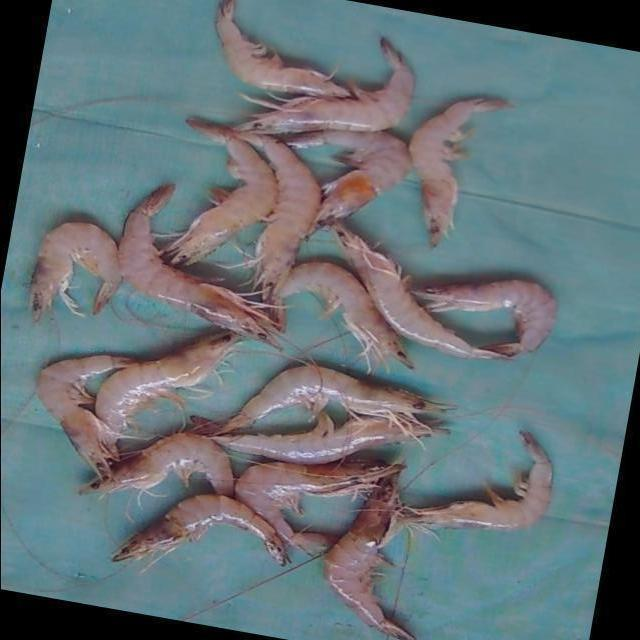shrimp: (117, 183, 278, 348), (334, 224, 514, 359), (94, 332, 237, 459), (160, 118, 278, 265), (236, 37, 415, 133), (218, 364, 452, 433), (392, 431, 552, 531), (269, 261, 412, 371), (408, 97, 511, 246), (234, 460, 402, 551), (323, 476, 414, 640), (238, 133, 322, 297), (211, 412, 458, 465), (215, 0, 349, 96), (110, 494, 287, 566), (285, 128, 411, 225), (35, 355, 134, 477), (411, 279, 556, 354), (78, 433, 234, 497), (28, 221, 120, 320)
